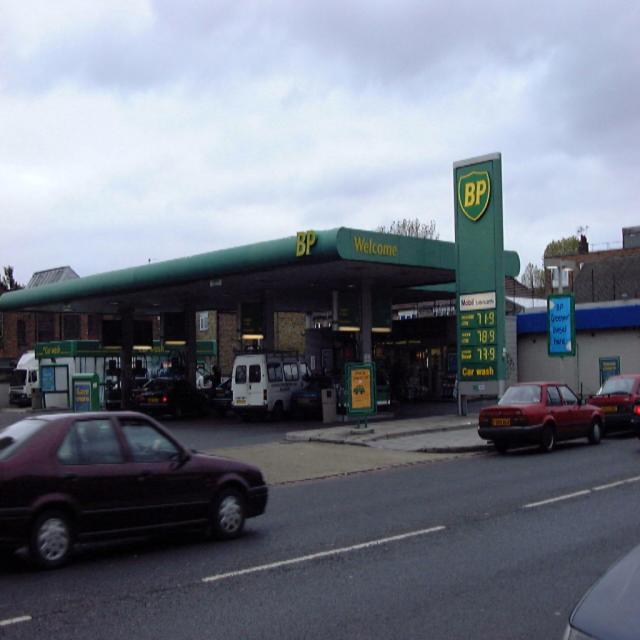car: (477, 380, 604, 448), (138, 373, 194, 409)
